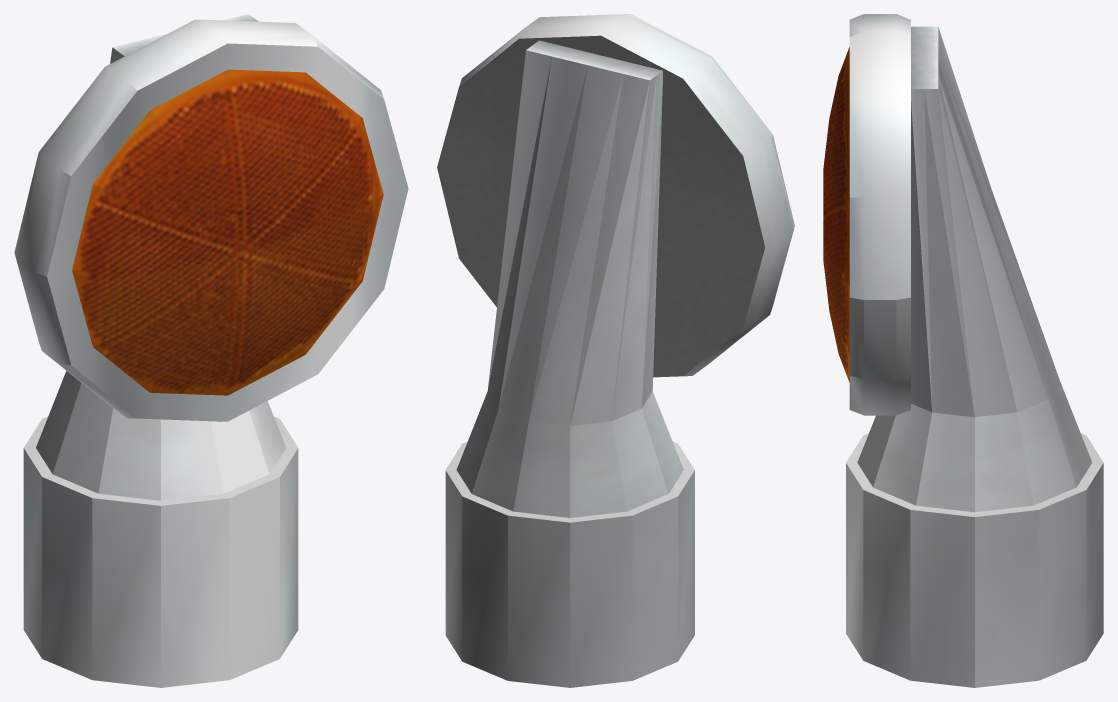
3 renders of one model, left to right at view 1: azimuth 30°, elevation 25°; view 2: azimuth 150°, elevation 25°; view 3: azimuth 270°, elevation 25°, orthographic. The views are drawn at different scales.
Visible parts, largest first — view 1: MainBuilding; view 2: MainBuilding; view 3: MainBuilding.
Part boxes in pixels (x1=…): MainBuilding: x1=14, y1=14, x2=408, y2=687; MainBuilding: x1=437, y1=14, x2=794, y2=687; MainBuilding: x1=823, y1=14, x2=1103, y2=687.
Size of the model in its own units: 0.1029 by 0.1694 by 0.0716.
Materials: 1 (1 with a texture image).
